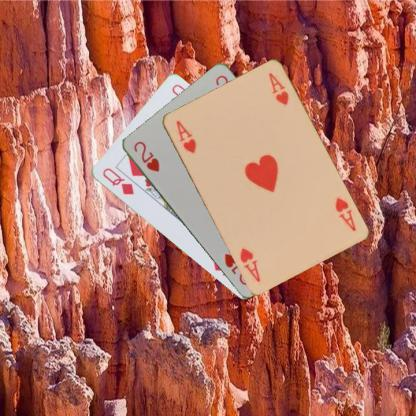2h: (130, 138, 160, 173)
Ah: (172, 118, 198, 154), (332, 195, 357, 232)
Qd: (100, 164, 134, 197)
